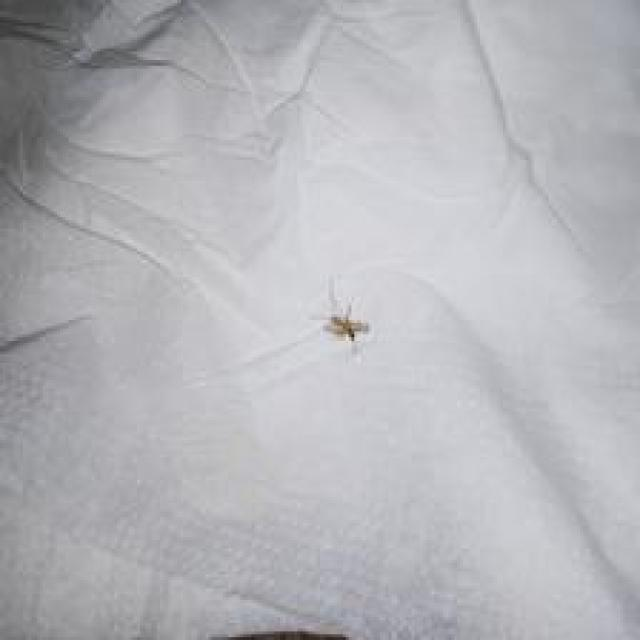Culex: (317, 276, 372, 344)
